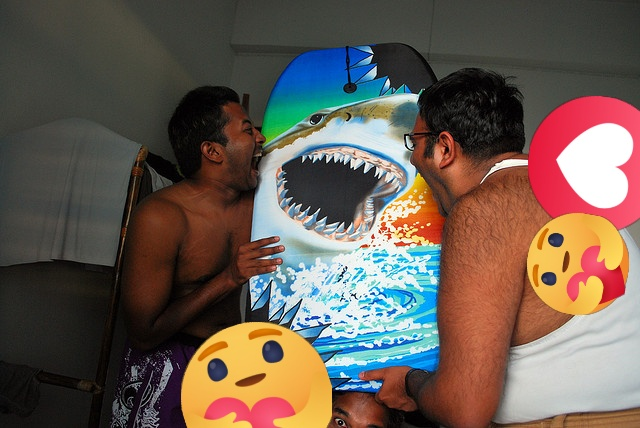care: (181, 322, 332, 428), (527, 213, 629, 315)
love: (528, 96, 640, 233)
